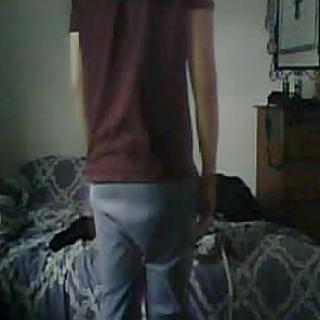Blue Sweatpants: (96, 177, 195, 320)
Maroon T-Shirt: (73, 0, 215, 176)
